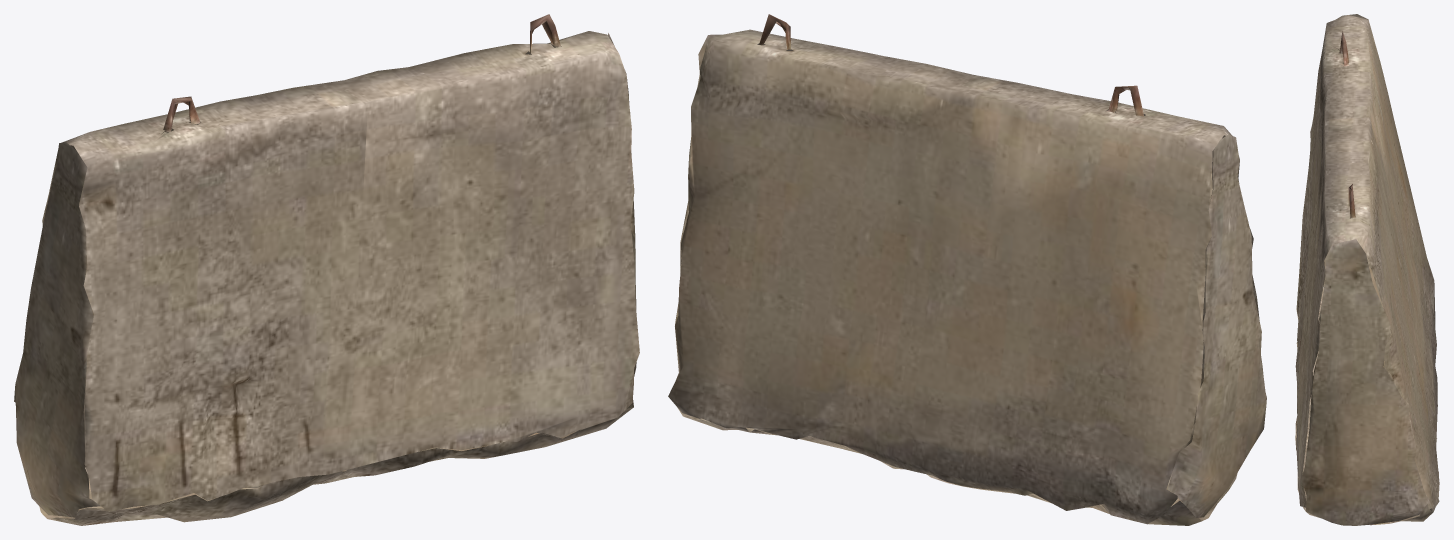
The model's file is barrier.glb.
The picture shows the model from 3 angles, left to right: view 1: azimuth 30°, elevation 25°; view 2: azimuth 150°, elevation 25°; view 3: azimuth 270°, elevation 25°; orthographic projection. The views are drawn at different scales.
Parts seen in each view (by area): view 1: barrier; view 2: barrier; view 3: barrier.
Boxes of the visible parts, <box> form: barrier: <box>14,14,639,525</box>; barrier: <box>668,14,1266,525</box>; barrier: <box>1295,14,1439,525</box>.
Bounding box in the file's own units: 1.56 × 1.11 × 0.441.
Materials: 1 (1 with a texture image).
